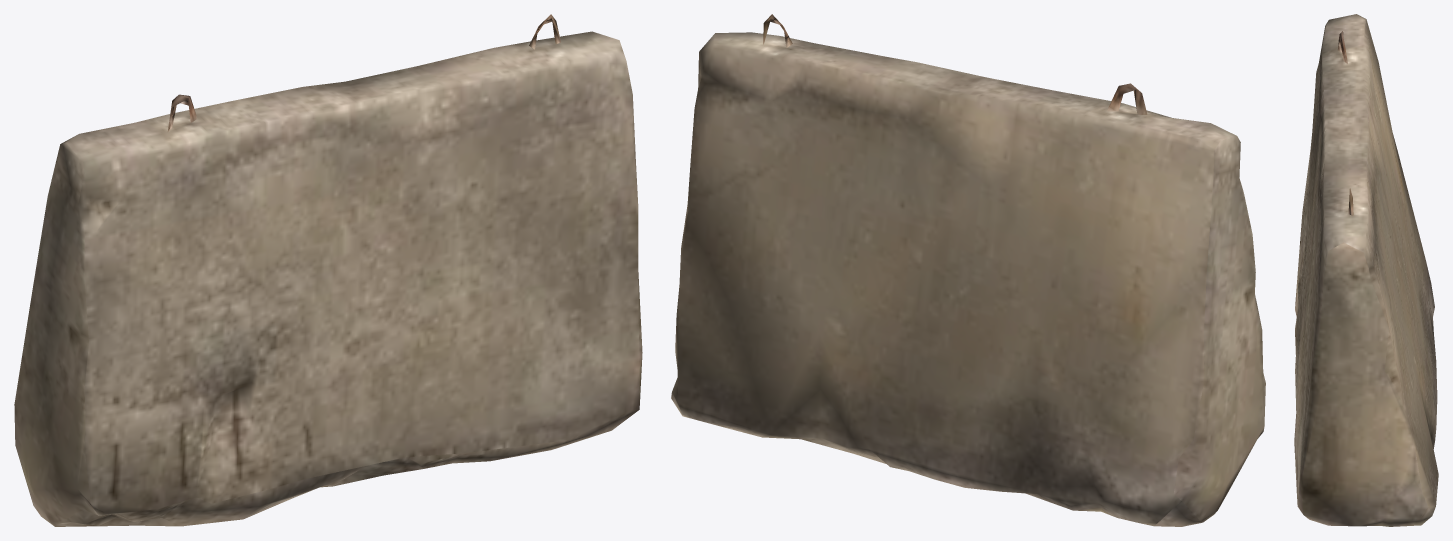
The model's file is barrier.glb.
3 views of the same model, side by side, from view 1: azimuth 30°, elevation 25°; view 2: azimuth 150°, elevation 25°; view 3: azimuth 270°, elevation 25° (orthographic). The views are drawn at different scales.
Visible parts, largest first — view 1: concrete_road_barrier_02; view 2: concrete_road_barrier_02; view 3: concrete_road_barrier_02.
Boxes of the visible parts, <box> form: concrete_road_barrier_02: <box>14,14,642,526</box>; concrete_road_barrier_02: <box>671,14,1265,526</box>; concrete_road_barrier_02: <box>1294,14,1438,526</box>.
Size of the model in its own units: 1.56 by 1.11 by 0.437.
1 material, 1 textured.
